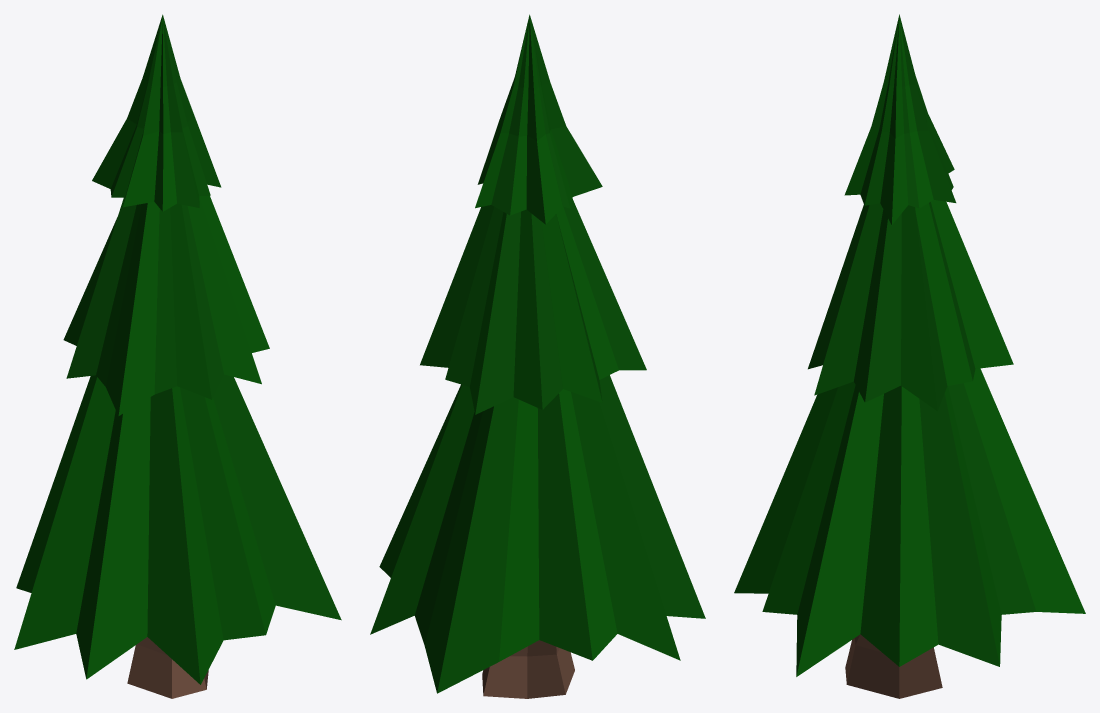
The model's file is Tree07.fbx.
The picture shows the model from 3 angles, left to right: view 1: azimuth 30°, elevation 25°; view 2: azimuth 150°, elevation 25°; view 3: azimuth 270°, elevation 25°; orthographic projection.
Parts seen in each view (by area): view 1: Tree011; view 2: Tree011; view 3: Tree011.
Boxes of the visible parts, x1,y1,x2,y2 form: Tree011: [14, 14, 341, 698]; Tree011: [370, 14, 705, 698]; Tree011: [734, 14, 1085, 698].
Bounding box in the file's own units: 1.19 × 2.53 × 1.22.
